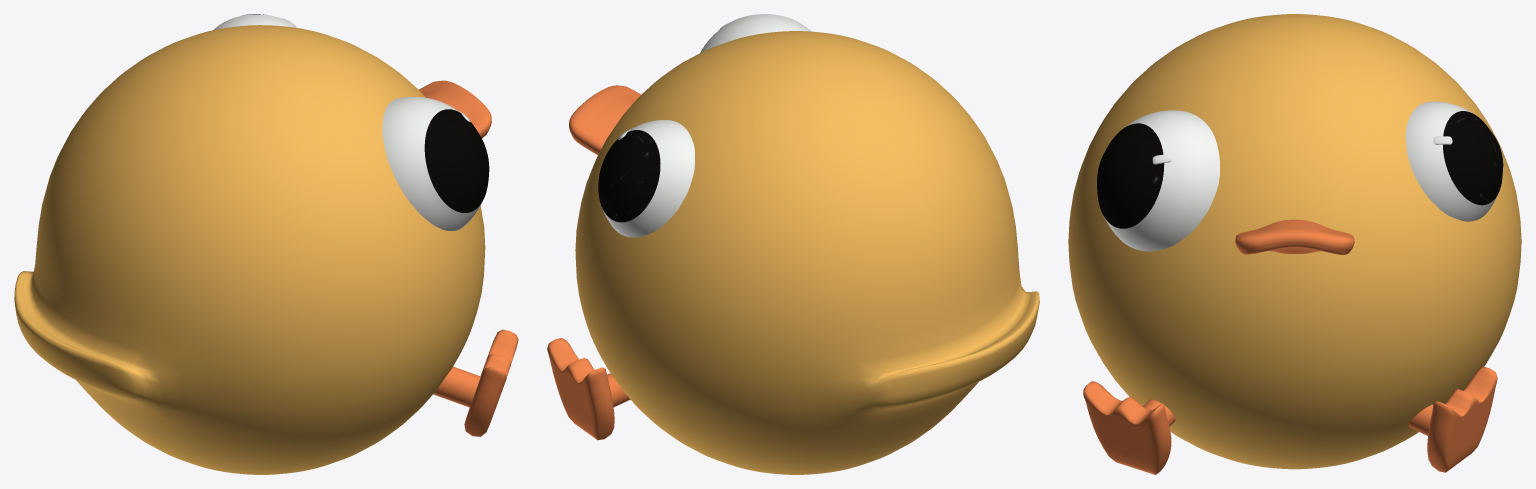
Rendered from pato_fallguys.glb.
3 renders of one model, left to right at view 1: azimuth 30°, elevation 25°; view 2: azimuth 150°, elevation 25°; view 3: azimuth 270°, elevation 25°, orthographic. The views are drawn at different scales.
Parts seen in each view (by area): view 1: Sphere, Sphere.001, Cube, Cube.003, Sphere.002; view 2: Sphere, Sphere.002, Cube.001, Cube.003, Sphere.001; view 3: Sphere, Sphere.001, Sphere.002, Cube, Cube.001, Cube.003.
Boxes of the visible parts, x1=… form: Sphere: x1=14, y1=25, x2=485, y2=474; Sphere.001: x1=382, y1=96, x2=489, y2=230; Cube: x1=433, y1=329, x2=518, y2=436; Cube.003: x1=419, y1=80, x2=491, y2=138; Sphere.002: x1=213, y1=14, x2=296, y2=30; Sphere: x1=575, y1=31, x2=1039, y2=474; Sphere.002: x1=598, y1=120, x2=694, y2=237; Cube.001: x1=547, y1=338, x2=630, y2=440; Cube.003: x1=569, y1=85, x2=641, y2=154; Sphere.001: x1=700, y1=14, x2=811, y2=52; Sphere: x1=1068, y1=14, x2=1521, y2=469; Sphere.001: x1=1097, y1=110, x2=1219, y2=251; Sphere.002: x1=1405, y1=101, x2=1503, y2=221; Cube: x1=1083, y1=381, x2=1175, y2=474; Cube.001: x1=1408, y1=366, x2=1497, y2=472; Cube.003: x1=1235, y1=219, x2=1354, y2=254.
Bounding box in the file's own units: 7.91 × 7.16 × 7.08.
8 materials, 6 textured.
